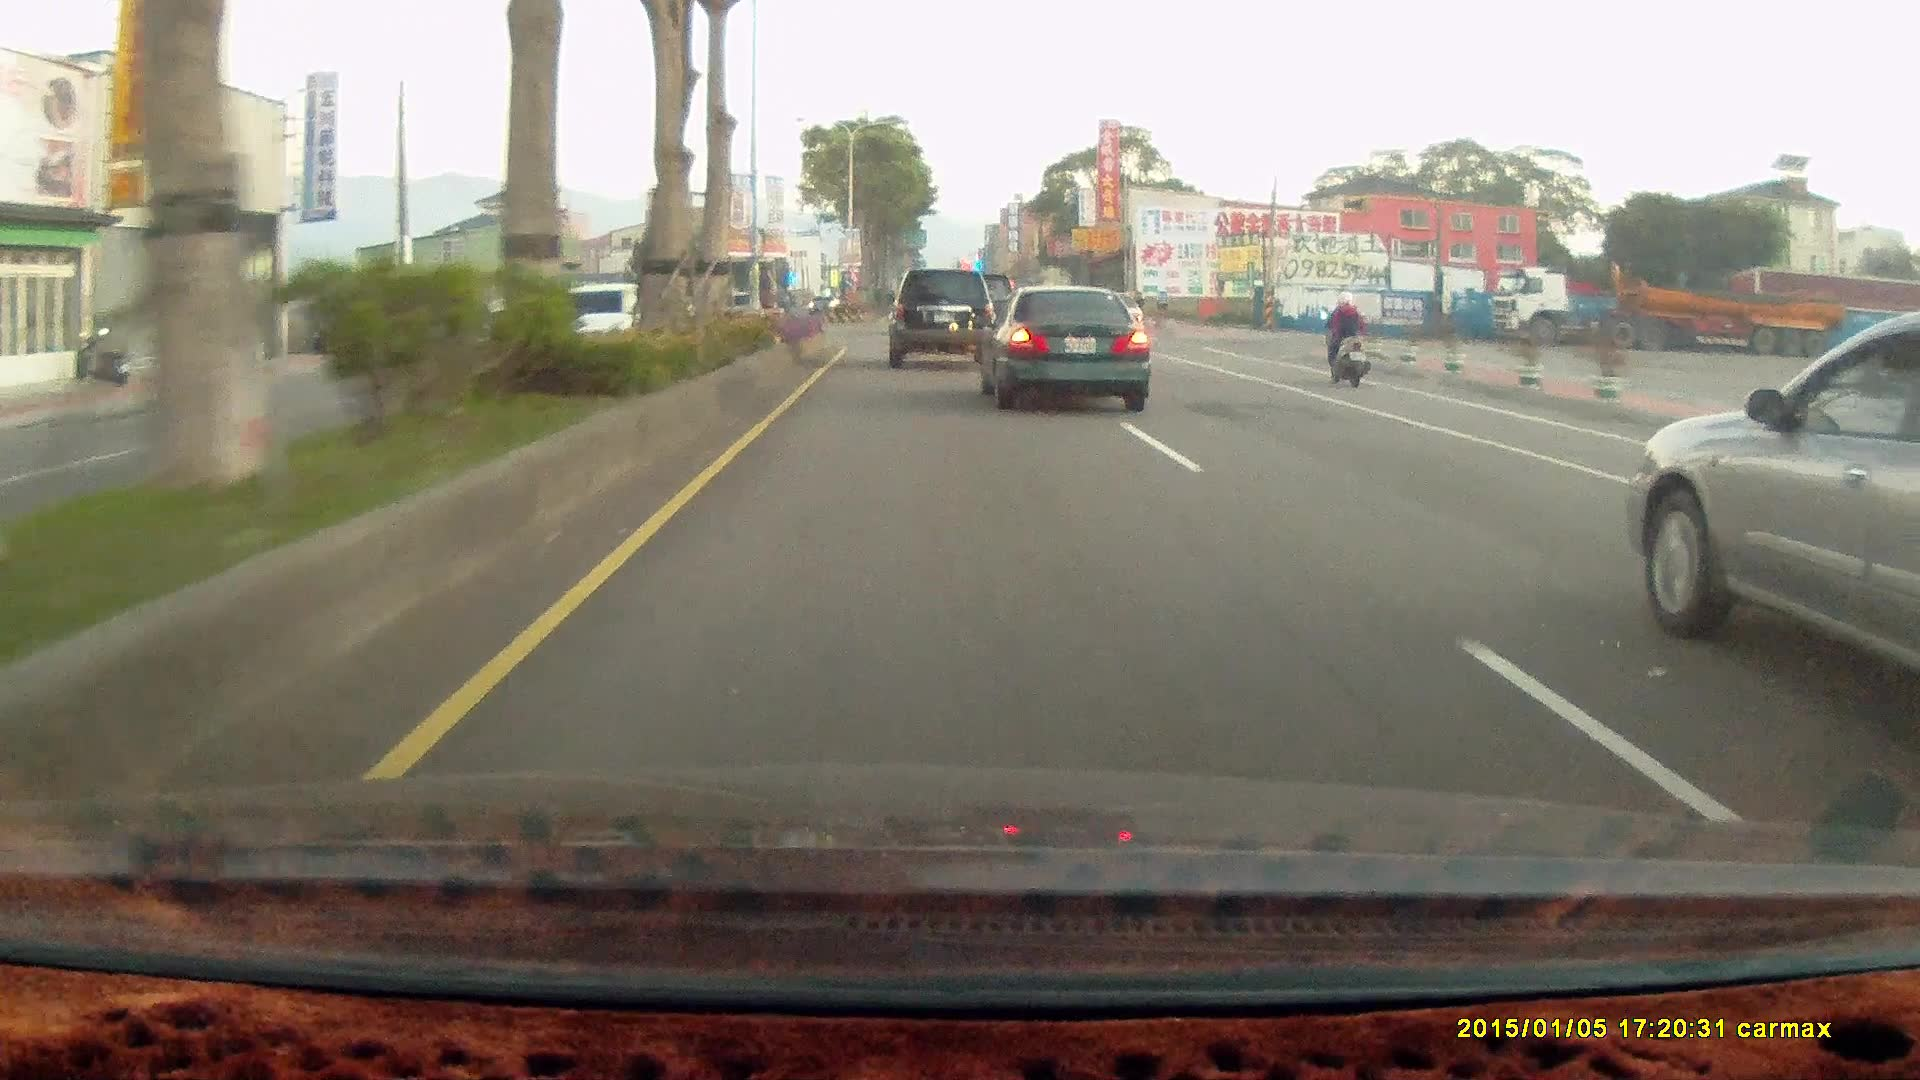rider: (1316, 287, 1378, 391), (1315, 291, 1371, 387)
vehicle: (1637, 305, 1920, 698), (1487, 265, 1842, 356), (974, 281, 1150, 409), (979, 288, 1149, 410), (881, 272, 991, 373), (888, 265, 998, 367), (544, 280, 655, 361)
